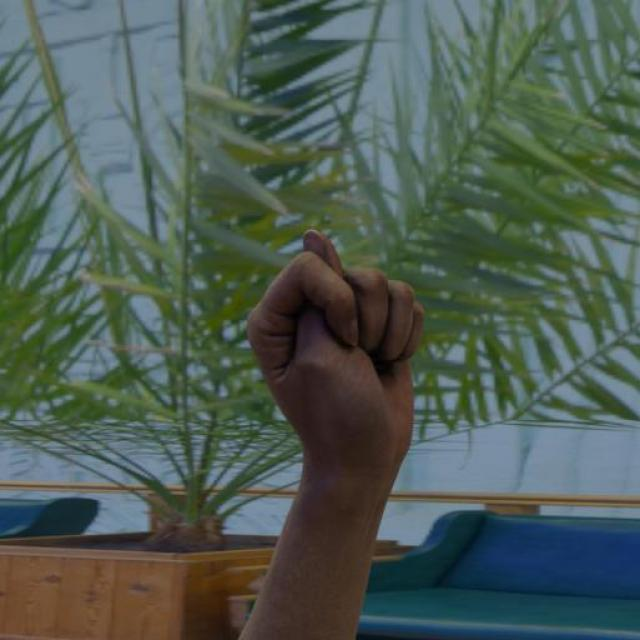T: (243, 226, 431, 470)
